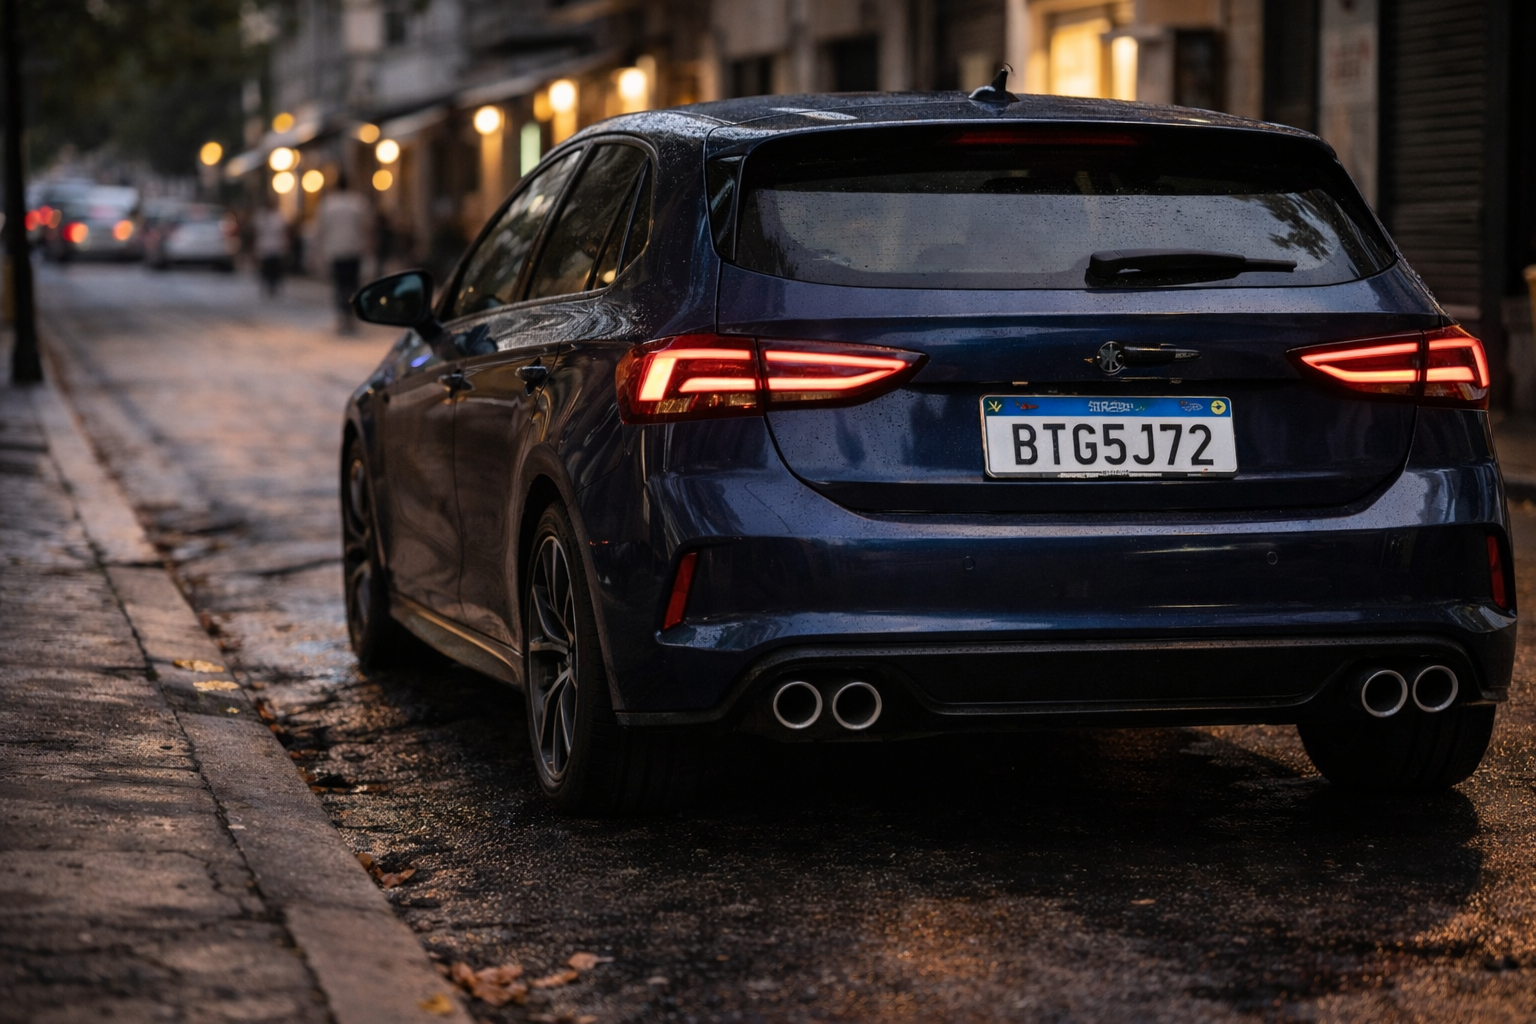car: (336, 82, 1519, 808)
car_plate: (976, 391, 1241, 475)
